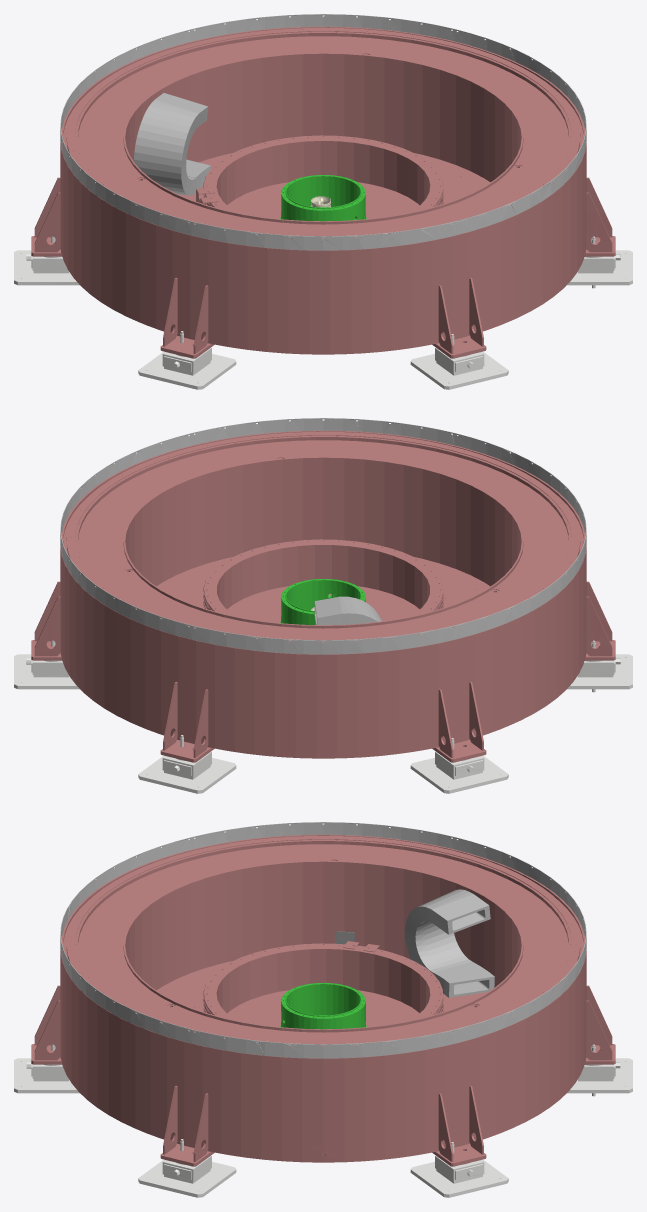
The model's file is pedestal.glb.
The picture shows the model from 3 angles, top to bottom: view 1: azimuth 30°, elevation 25°; view 2: azimuth 150°, elevation 25°; view 3: azimuth 270°, elevation 25°; orthographic projection.
Visible parts, largest first — view 1: pedestal; view 2: pedestal; view 3: pedestal.
Boxes of the visible parts, x1=… form: pedestal: x1=14, y1=14, x2=632, y2=389; pedestal: x1=14, y1=418, x2=632, y2=793; pedestal: x1=14, y1=822, x2=632, y2=1197.
Bounding box in the file's own units: 30.6 × 9.45 × 33.26.
Materials: 1 (1 with a texture image).
